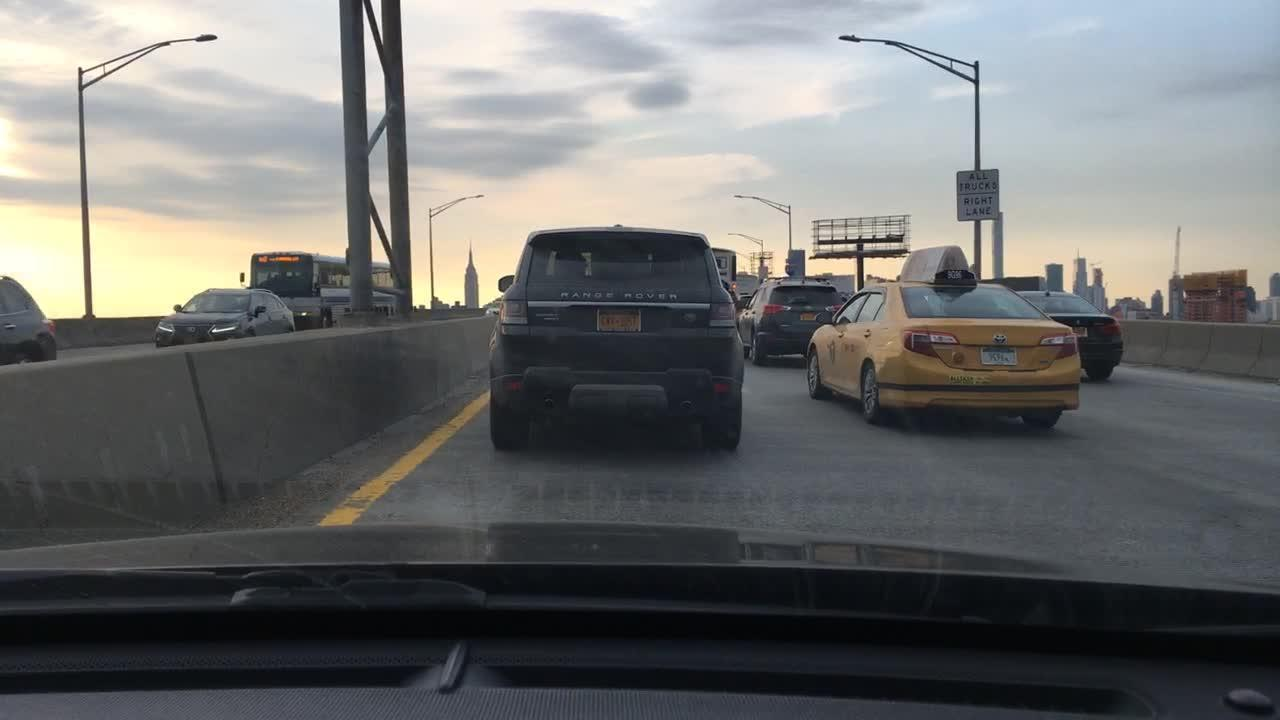Toyota: (988, 329, 1015, 352)
range rover: (553, 284, 685, 303)
